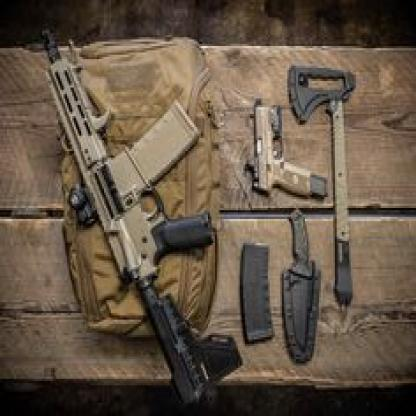Gun: (40, 24, 244, 412)
Knife: (282, 207, 323, 365)
Pistol: (243, 97, 331, 201)
